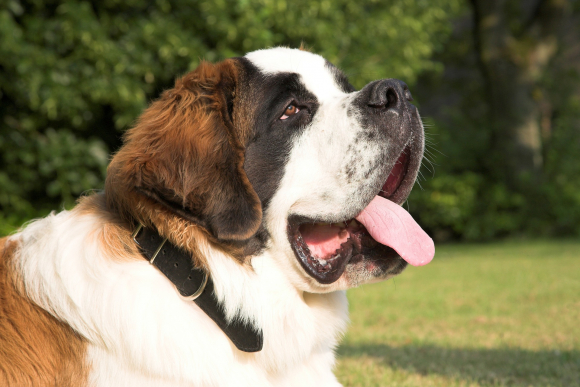dog: (1, 33, 456, 387)
